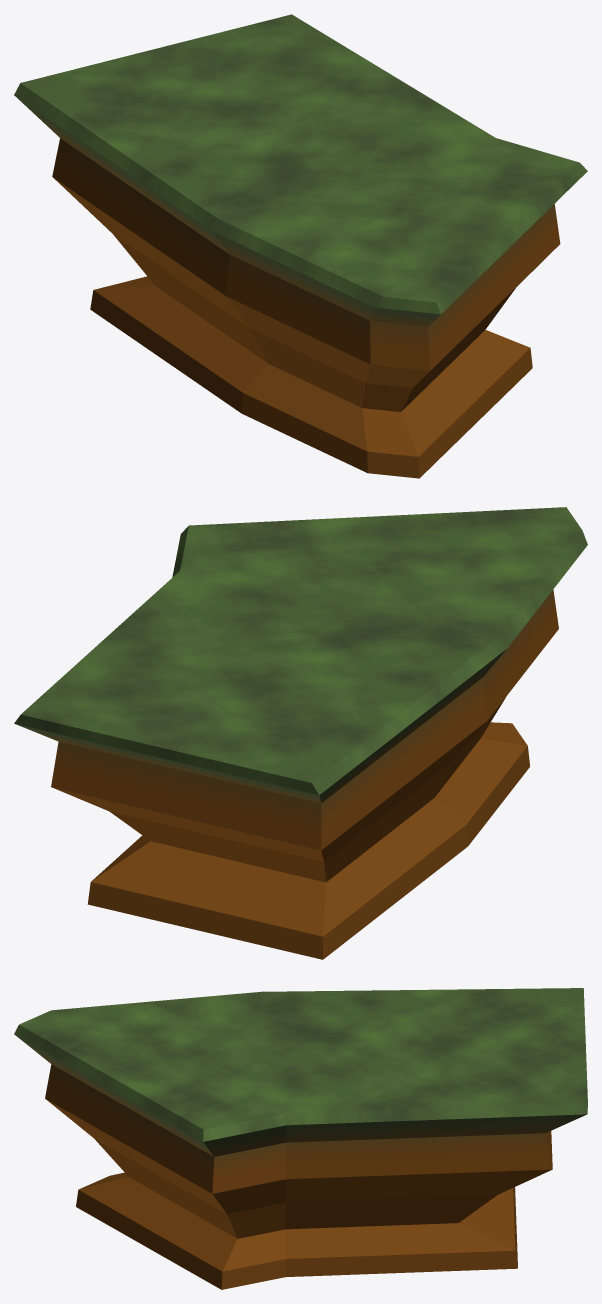
The model's file is T3_Terreno_Lvl1_T.fbx.
3 views of the same model, one above another, from view 1: azimuth 30°, elevation 25°; view 2: azimuth 150°, elevation 25°; view 3: azimuth 270°, elevation 25° (orthographic). The views are drawn at different scales.
Parts seen in each view (by area): view 1: T3_modelosBlockout_nivel1; view 2: T3_modelosBlockout_nivel1; view 3: T3_modelosBlockout_nivel1.
Boxes of the visible parts, left/top/right/bottom form: T3_modelosBlockout_nivel1: left=14, top=14, right=587, bottom=478; T3_modelosBlockout_nivel1: left=14, top=507, right=587, bottom=959; T3_modelosBlockout_nivel1: left=14, top=988, right=587, bottom=1289.
Size of the model in its own units: 2034 by 1126 by 3338.
